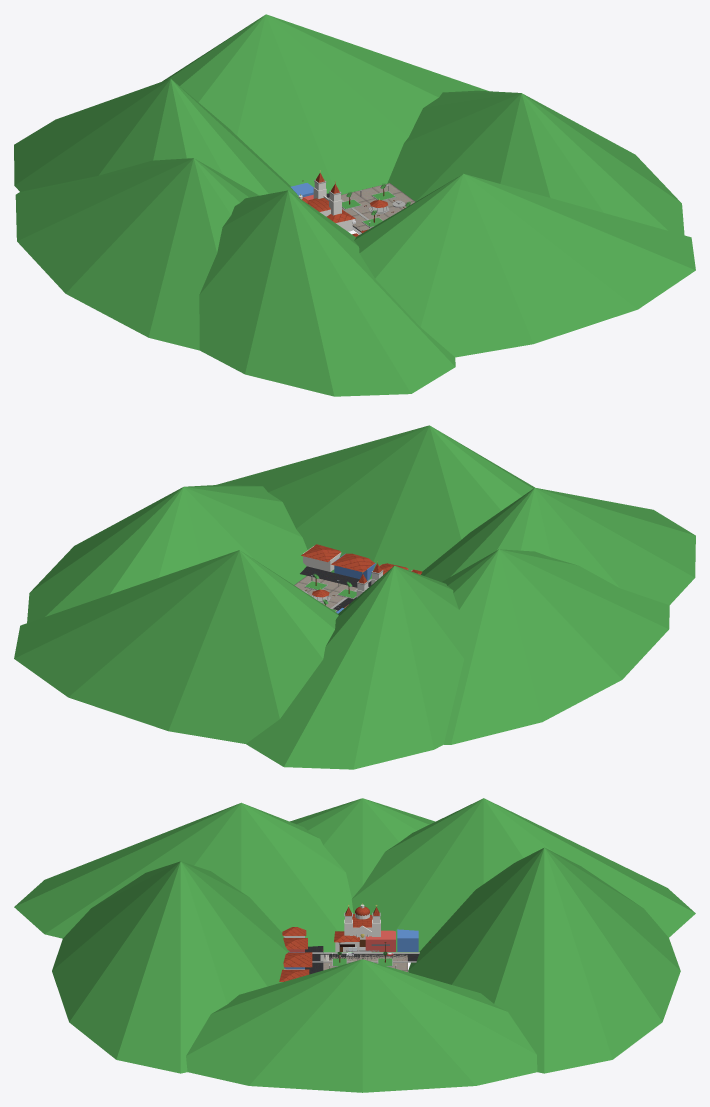
The model's file is esteli_city.fbx.
The picture shows the model from 3 angles, top to bottom: view 1: azimuth 30°, elevation 25°; view 2: azimuth 150°, elevation 25°; view 3: azimuth 270°, elevation 25°; orthographic projection. The views are drawn at different scales.
Parts seen in each view (by area): view 1: Mountain_Tisey.004, Mountain_Tisey.002, Mountain_Tisey.003, Mountain_Tisey, Mountain_Tisey.005, Mountain_Tisey.001, Park_Ground; view 2: Mountain_Tisey.003, Mountain_Tisey, Mountain_Tisey.001, Mountain_Tisey.004, Mountain_Tisey.005, Mountain_Tisey.002, Park_Ground, Cross_Street_Asphalt; view 3: Mountain_Tisey.003, Mountain_Tisey.005, Mountain_Tisey.004, Mountain_Tisey.002, Mountain_Tisey.001, Mountain_Tisey, Park_Ground, Colonial_Building_Esteli, Cube.071.
Boxes of the visible parts, x1,y1,x2,y2 form: Mountain_Tisey.004: [354, 173, 695, 357]; Mountain_Tisey.002: [199, 190, 455, 396]; Mountain_Tisey.003: [162, 14, 488, 194]; Mountain_Tisey: [15, 158, 258, 350]; Mountain_Tisey.005: [387, 90, 684, 235]; Mountain_Tisey.001: [14, 78, 298, 197]; Park_Ground: [341, 183, 415, 231]; Mountain_Tisey.003: [14, 550, 338, 743]; Mountain_Tisey: [441, 549, 669, 744]; Mountain_Tisey.001: [246, 565, 463, 769]; Mountain_Tisey.004: [216, 425, 534, 580]; Mountain_Tisey.005: [27, 484, 307, 622]; Mountain_Tisey.002: [421, 487, 695, 605]; Park_Ground: [294, 575, 357, 608]; Cross_Street_Asphalt: [300, 566, 371, 587]; Mountain_Tisey.003: [408, 847, 680, 1073]; Mountain_Tisey.005: [186, 959, 537, 1092]; Mountain_Tisey.004: [52, 861, 289, 1073]; Mountain_Tisey.002: [14, 802, 353, 952]; Mountain_Tisey.001: [351, 798, 695, 952]; Mountain_Tisey: [290, 798, 435, 898]; Park_Ground: [323, 954, 407, 971]; Colonial_Building_Esteli: [365, 930, 395, 951]; Cube.071: [397, 929, 418, 951].
Bounding box in the file's own units: 40000 × 9000 × 45000.
